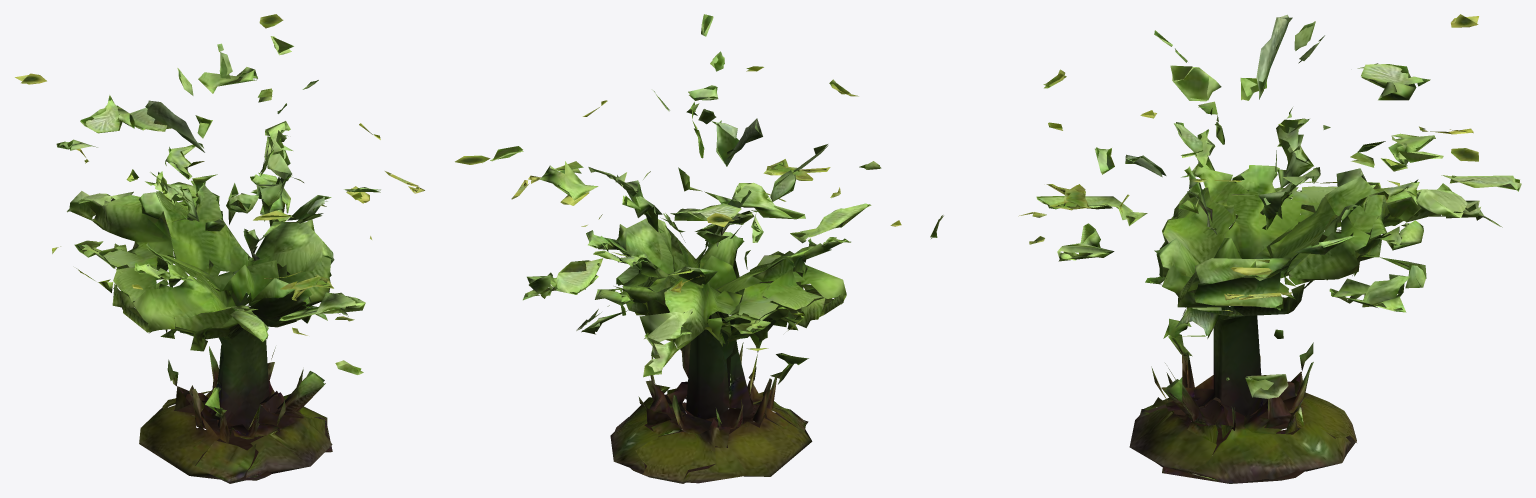
Rendered from fern.glb.
3 views of the same model, side by side, from view 1: azimuth 30°, elevation 25°; view 2: azimuth 150°, elevation 25°; view 3: azimuth 270°, elevation 25° (orthographic). The views are drawn at different scales.
Parts seen in each view (by area): view 1: model; view 2: model; view 3: model.
Boxes of the visible parts, x1,y1,x2,y2 form: model: (15, 14, 424, 483); model: (455, 14, 901, 483); model: (930, 14, 1521, 483).
Bounding box in the file's own units: 0.8974 × 0.9931 × 1.24.
1 material, 1 textured.
